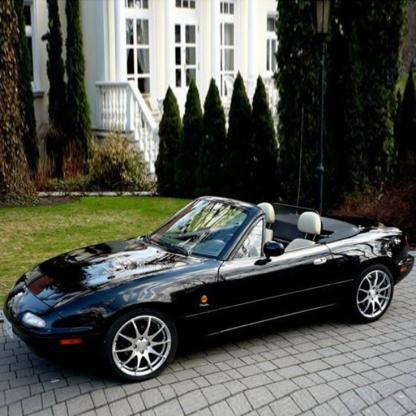car: (0, 192, 415, 385)
